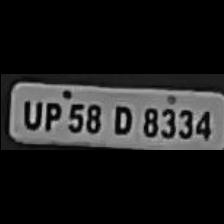3: (156, 100, 176, 140), (174, 102, 192, 140)
4: (192, 104, 212, 140)
5: (63, 98, 83, 134)
8: (136, 102, 158, 138), (82, 99, 102, 135)
D: (106, 100, 134, 136)
P: (40, 97, 60, 130)
U: (17, 96, 41, 130)
